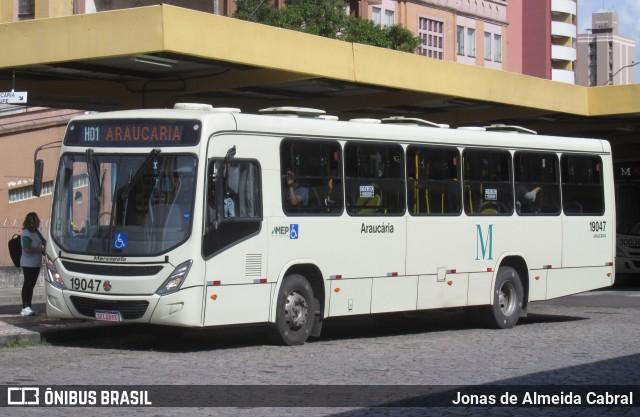ARAUCARIA: (101, 122, 186, 144)
